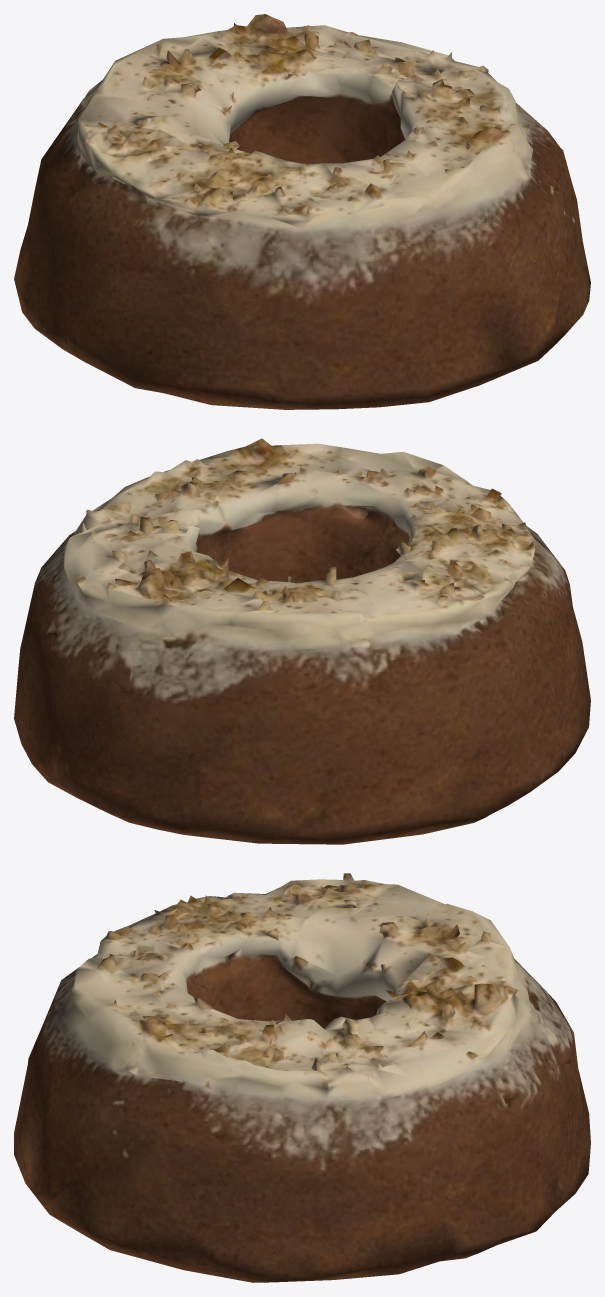
File: carrot_cake.glb
3 views of the same model, one above another, from view 1: azimuth 30°, elevation 25°; view 2: azimuth 150°, elevation 25°; view 3: azimuth 270°, elevation 25° (orthographic). The views are drawn at different scales.
Parts seen in each view (by area): view 1: carrot_cake; view 2: carrot_cake; view 3: carrot_cake.
Boxes of the visible parts, box(x1,y1,x2,y2) form: carrot_cake: box(14, 14, 590, 409); carrot_cake: box(14, 438, 590, 844); carrot_cake: box(14, 873, 590, 1282).
Bounding box in the file's own units: 0.2254 × 0.0976 × 0.2254.
Materials: 1 (1 with a texture image).
